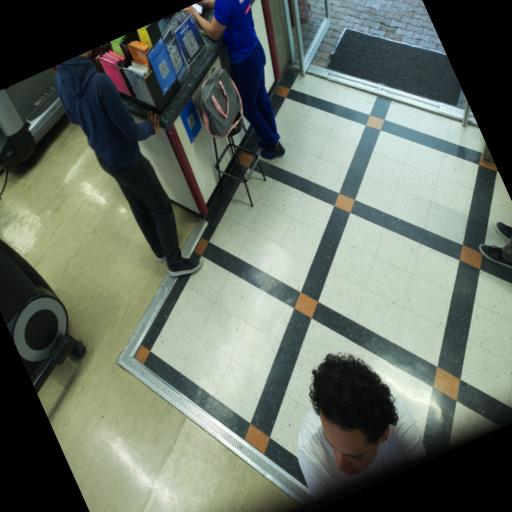person: (55, 50, 199, 276), (297, 354, 425, 500), (183, 0, 284, 159), (479, 223, 511, 268)
